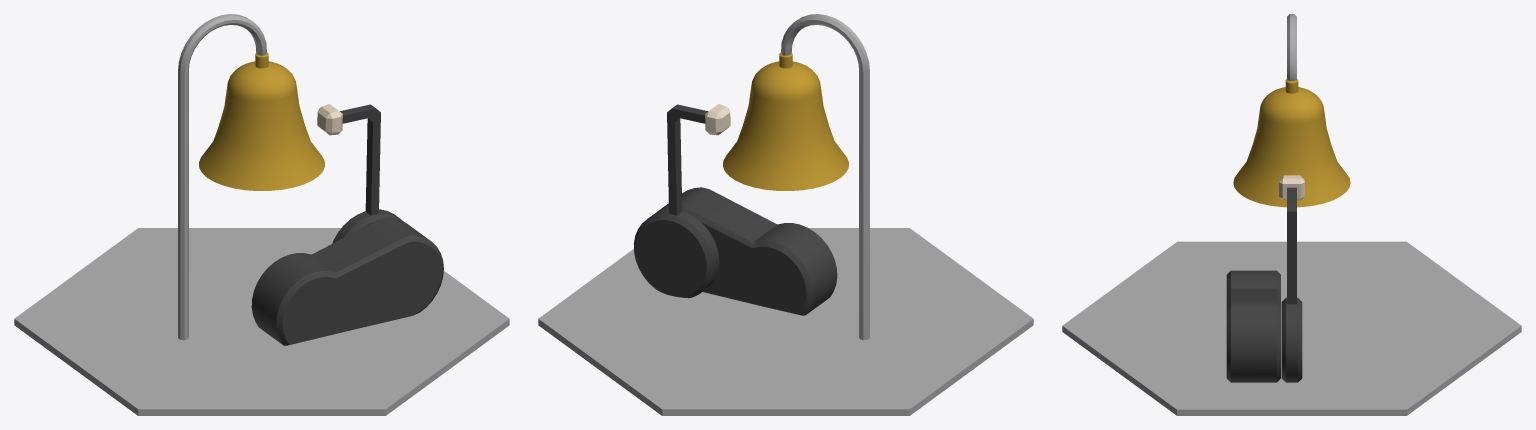
File: bell.fbx
3 renders of one model, left to right at view 1: azimuth 30°, elevation 25°; view 2: azimuth 150°, elevation 25°; view 3: azimuth 270°, elevation 25°, orthographic. The views are drawn at different scales.
Parts seen in each view (by area): view 1: Base, Bell, Hammer; view 2: Base, Bell, Hammer; view 3: Base, Bell, Hammer.
Boxes of the visible parts, x1,y1,x2,y2 form: Base: [14, 14, 509, 415]; Bell: [199, 52, 324, 190]; Hammer: [317, 104, 402, 243]; Base: [538, 14, 1033, 415]; Bell: [723, 52, 848, 190]; Hammer: [633, 104, 730, 298]; Base: [1062, 14, 1521, 415]; Bell: [1233, 79, 1350, 207]; Hammer: [1279, 175, 1304, 382].
Size of the model in its own units: 0.6147 by 0.5043 by 0.7097.
